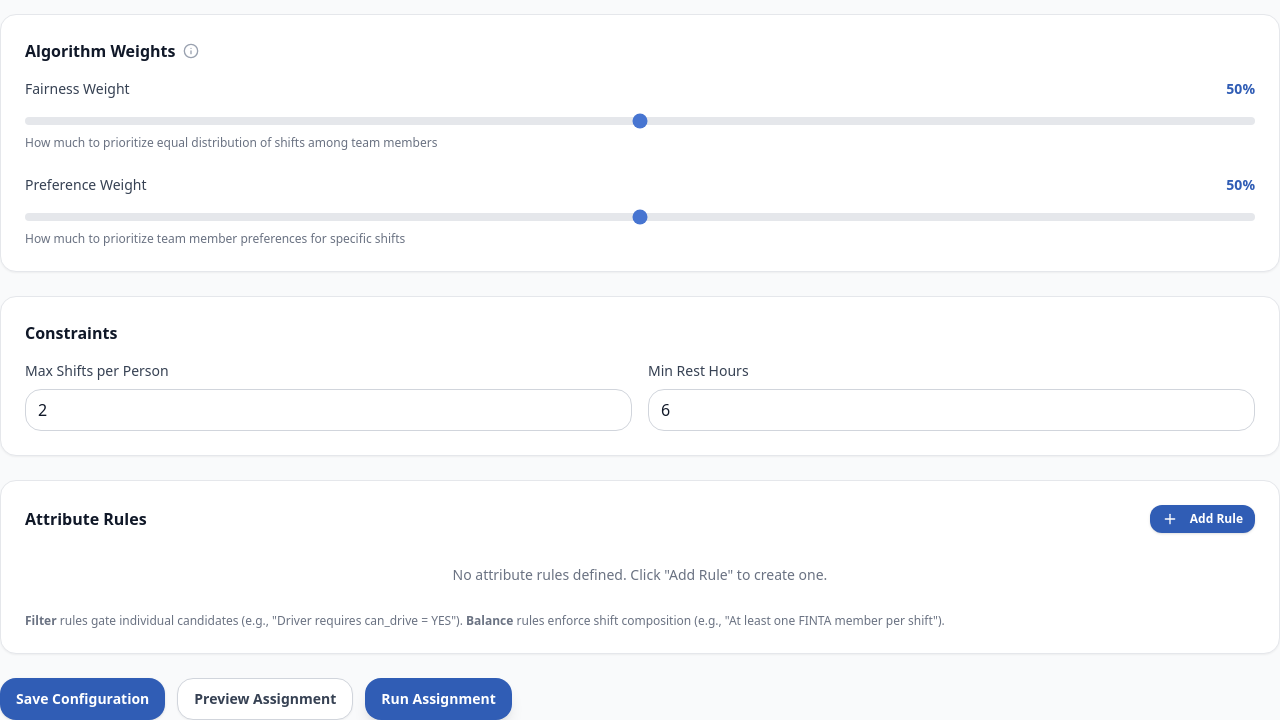
Test: DistributionSettings – run algorithm confirmation › opens a ConfirmDialog instead of window.confirm when running the algorithm
(page scrolled)
Click the button "Run Assignment" at (439,699), box left=365, top=678, right=512, bottom=719
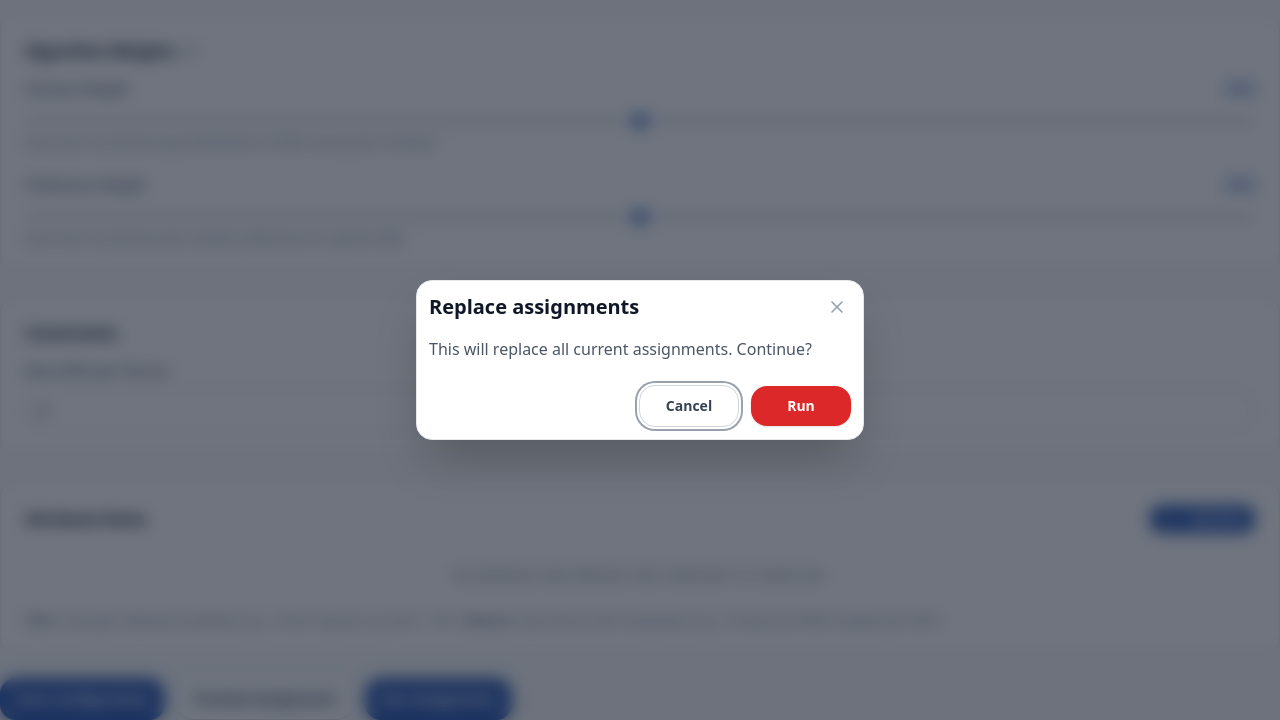
Result: the dialog is shown
Result: the text "This will replace all current assignments. Continue?" is shown at left=429, top=337, right=851, bottom=361
